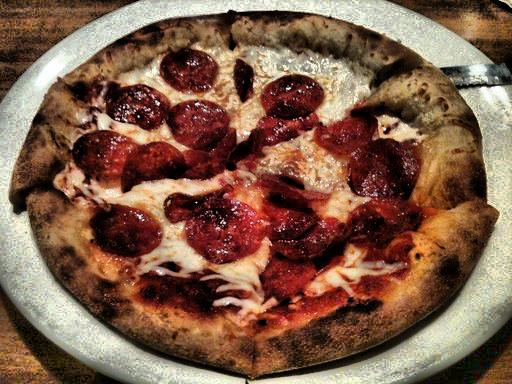pizza: (47, 19, 479, 350)
